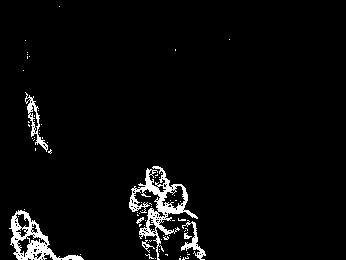person: (146, 182, 204, 260), (23, 91, 52, 156)
